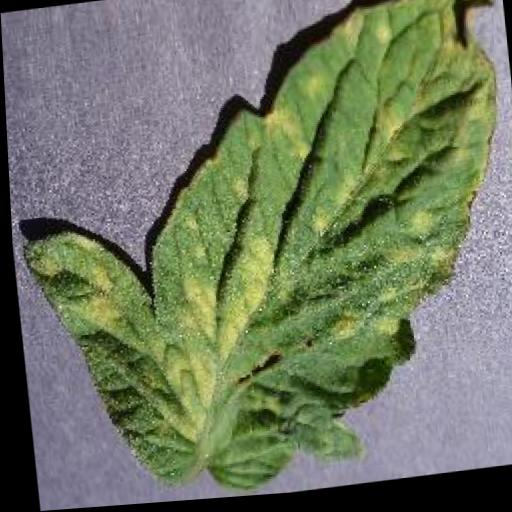Leaf Mold: (1, 0, 512, 510)
